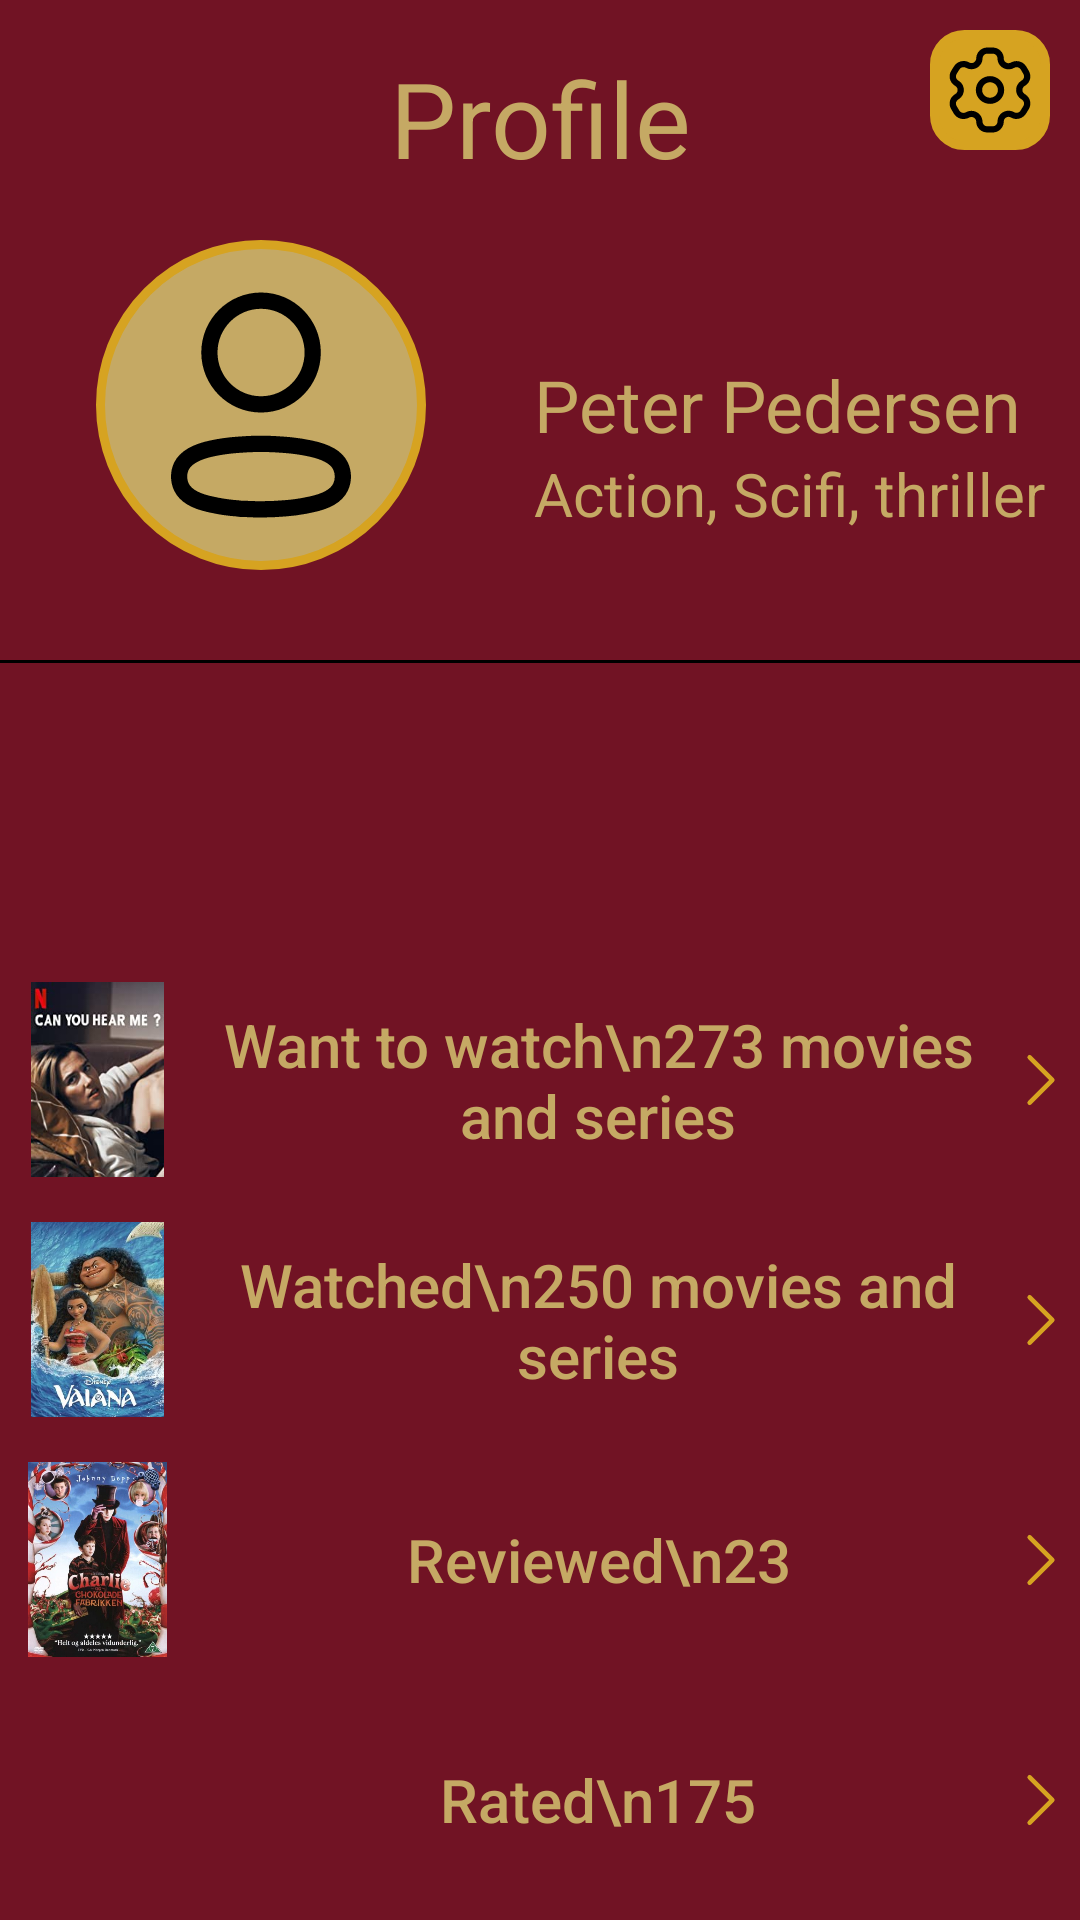

Screen size 1080px×1920px. Icon name, then its center in pixels as (x,y):
setting: (990,90)
